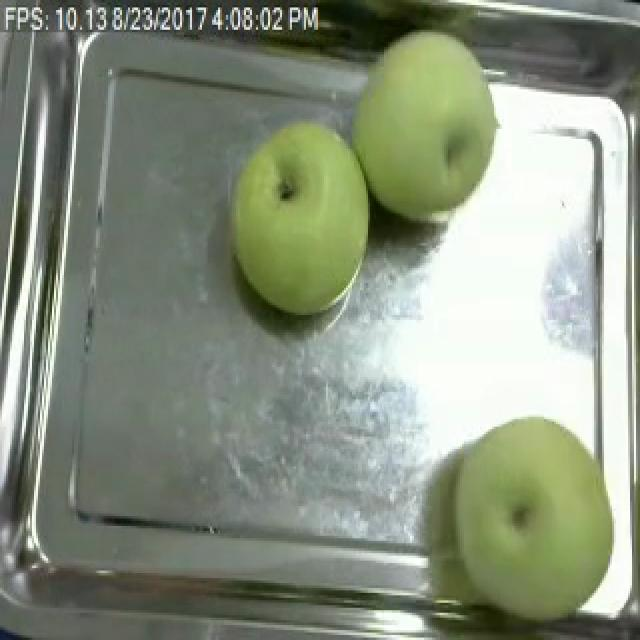50-_ripeness: (456, 413, 614, 623), (347, 15, 508, 218), (225, 112, 378, 320)
